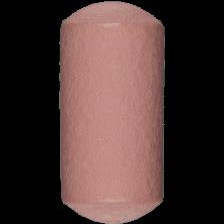50458-552: (0, 0, 224, 224)
